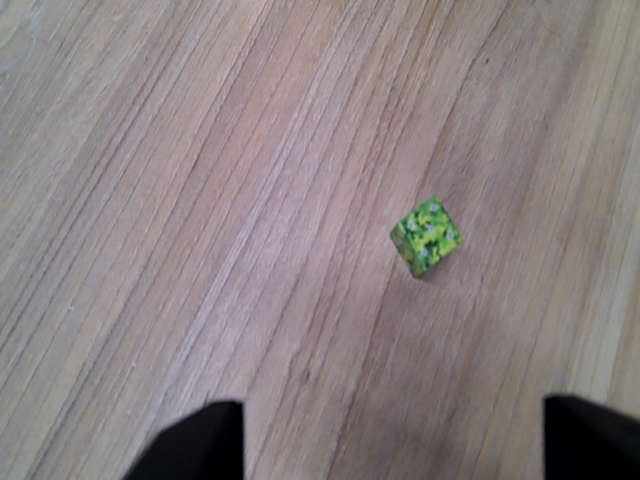grass: (389, 199, 464, 280)
